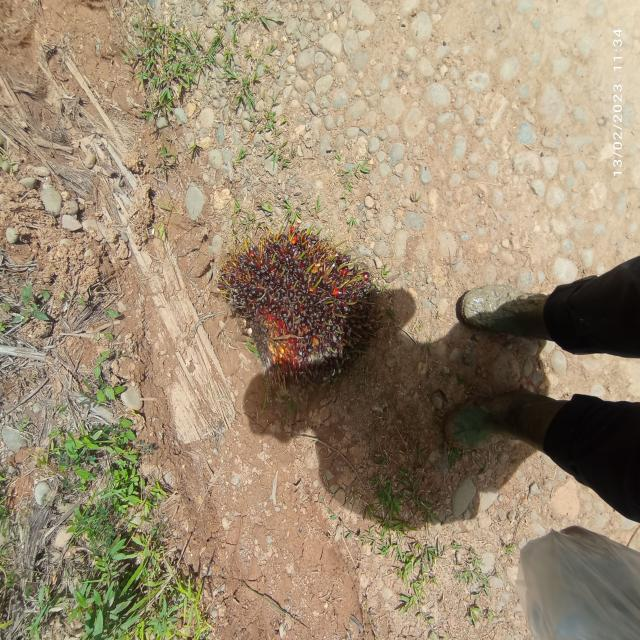fraksi 1: (197, 183, 388, 411)
